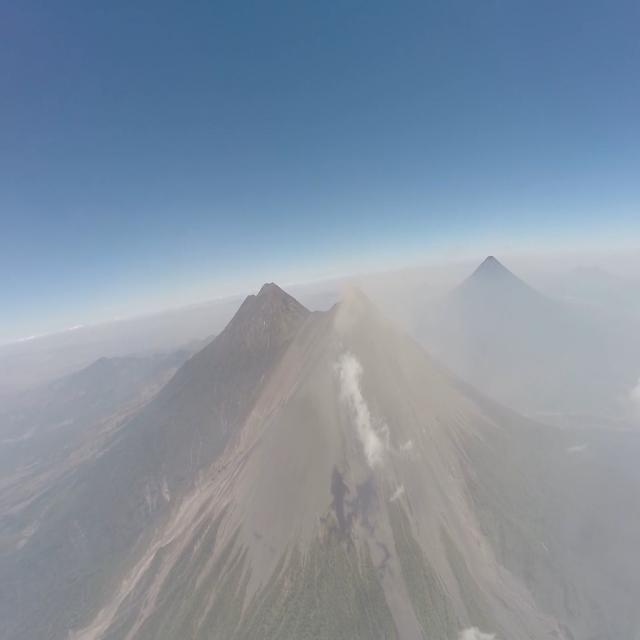Summit: (327, 289, 385, 324)
